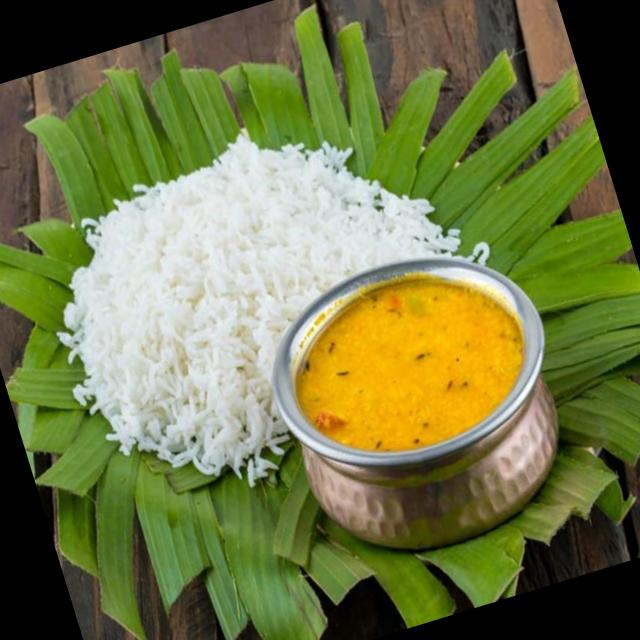dal: (302, 283, 519, 452)
rice: (58, 122, 477, 486)
